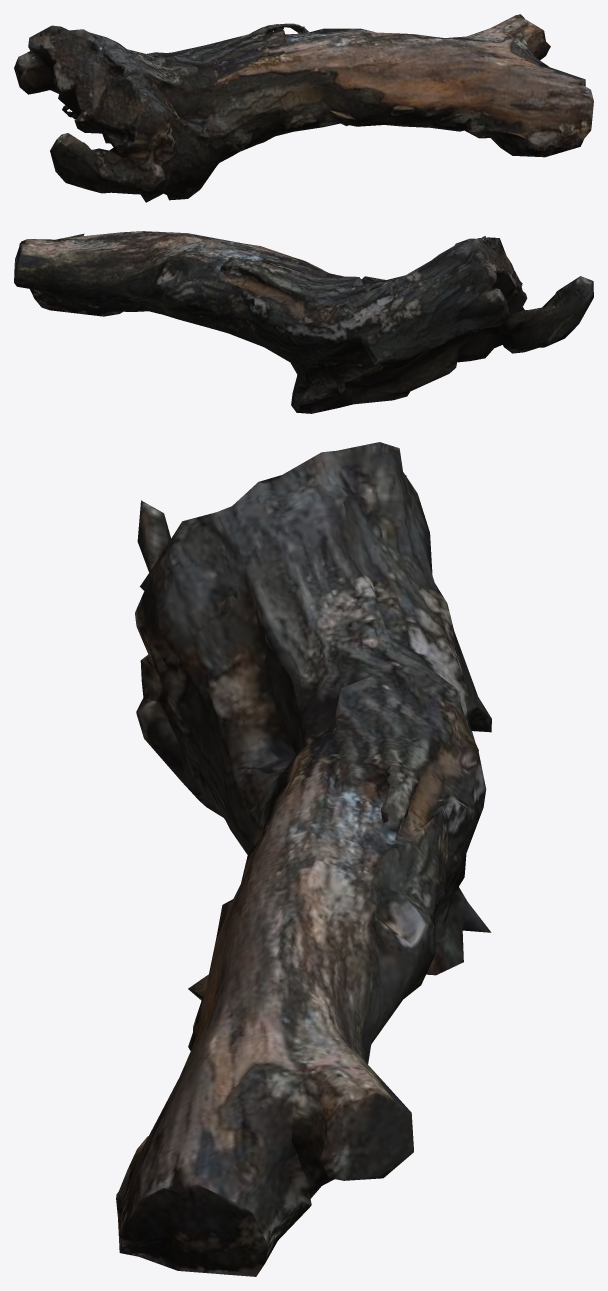
Rendered from musgo.glb.
3 views of the same model, one above another, from view 1: azimuth 30°, elevation 25°; view 2: azimuth 150°, elevation 25°; view 3: azimuth 270°, elevation 25° (orthographic). The views are drawn at different scales.
Visible parts, largest first — view 1: musgo; view 2: musgo; view 3: musgo.
Part boxes in pixels (x1=…): musgo: x1=14, y1=14, x2=593, y2=202; musgo: x1=14, y1=231, x2=593, y2=413; musgo: x1=116, y1=442, x2=491, y2=1276.
Size of the model in its own units: 9.97 by 3.38 by 3.01.
Materials: 1 (1 with a texture image).
